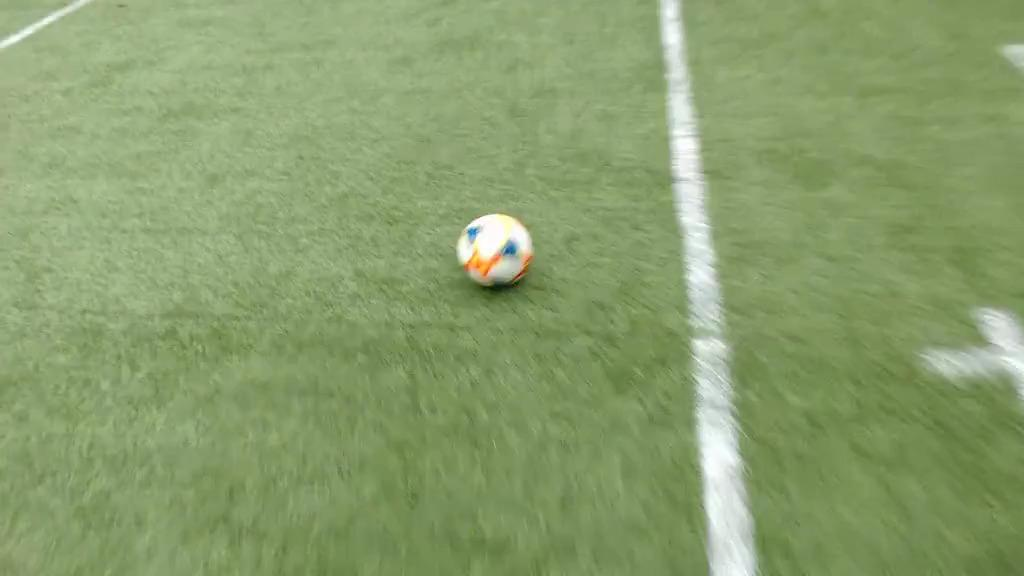ball: (459, 212, 533, 292)
